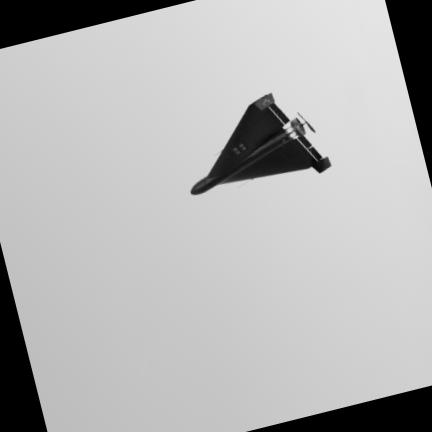Shahed: (190, 92, 329, 192)
